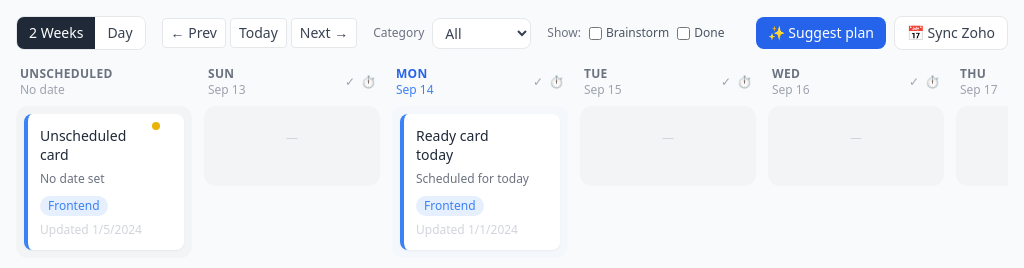
CalendarView › shows brainstorm cards when brainstorm status filter is toggled on
Find and click the brainstorm filter toggle
Click the checkbox labelled "Brainstorm" at (596, 33), box [589,26,602,40]
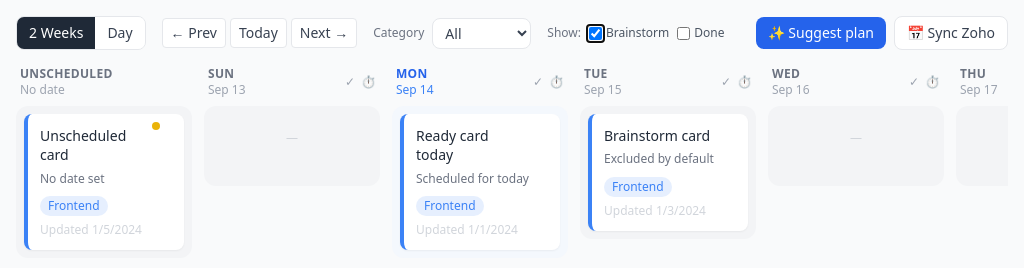
Expected: the text "Brainstorm card" is shown, [604,126,714,145]
